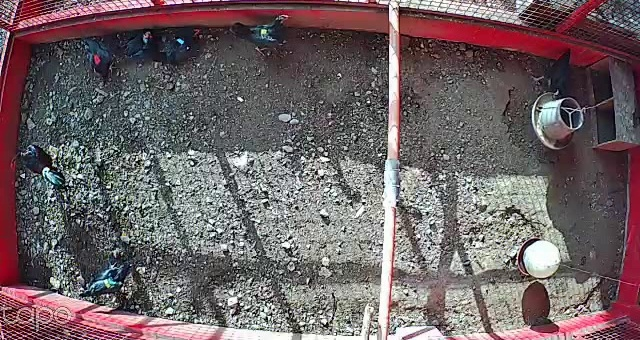Chicken: (228, 10, 300, 63), (527, 45, 578, 101), (77, 258, 134, 303), (152, 25, 208, 68), (82, 36, 121, 84), (114, 26, 158, 61)
Rooster: (5, 143, 75, 193)
Saddle_Color_Blue: (175, 37, 184, 45)
Saddle_Color_Red: (92, 53, 100, 65)
Saddle_Color_Yellow: (261, 26, 269, 37)
Saddle_Color_YellowGreen: (102, 278, 119, 288)
